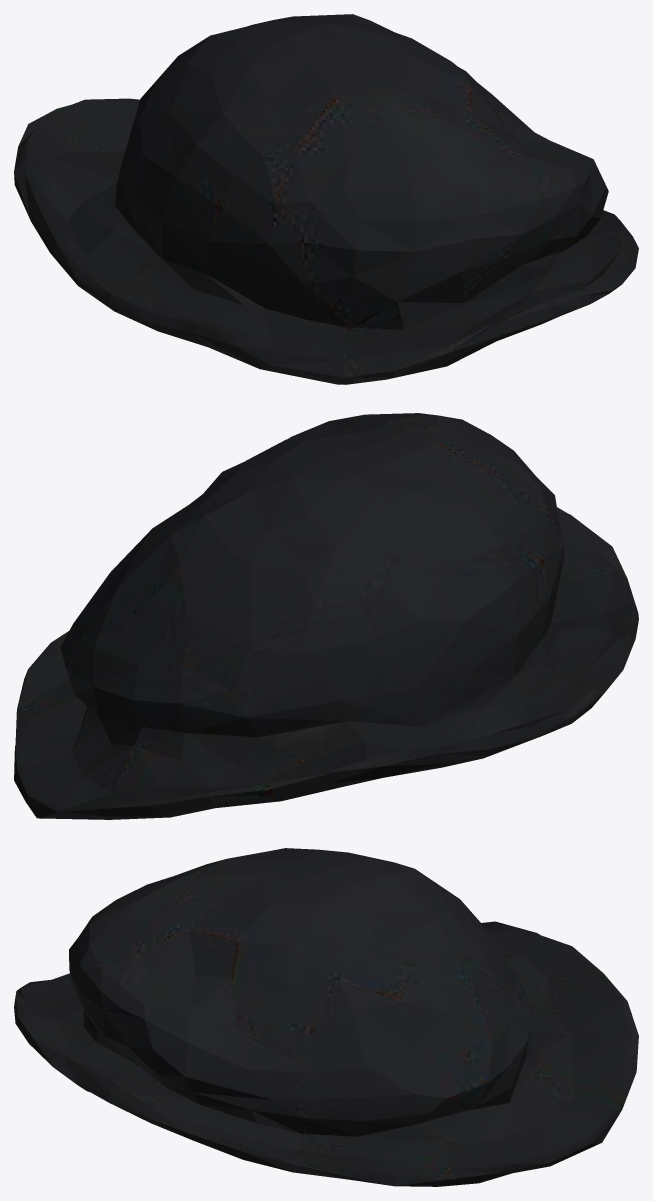
Rendered from ewm_t2mime_hat.glb.
3 renders of one model, top to bottom at view 1: azimuth 30°, elevation 25°; view 2: azimuth 150°, elevation 25°; view 3: azimuth 270°, elevation 25°, orthographic. The views are drawn at different scales.
Parts seen in each view (by area): view 1: ewm_t2mime_hat; view 2: ewm_t2mime_hat; view 3: ewm_t2mime_hat.
Boxes of the visible parts, x1,y1,x2,y2 form: ewm_t2mime_hat: (14, 14, 638, 384); ewm_t2mime_hat: (14, 413, 638, 819); ewm_t2mime_hat: (14, 848, 638, 1186).
Size of the model in its own units: 0.2706 by 0.1375 by 0.343.
1 material, 1 textured.
